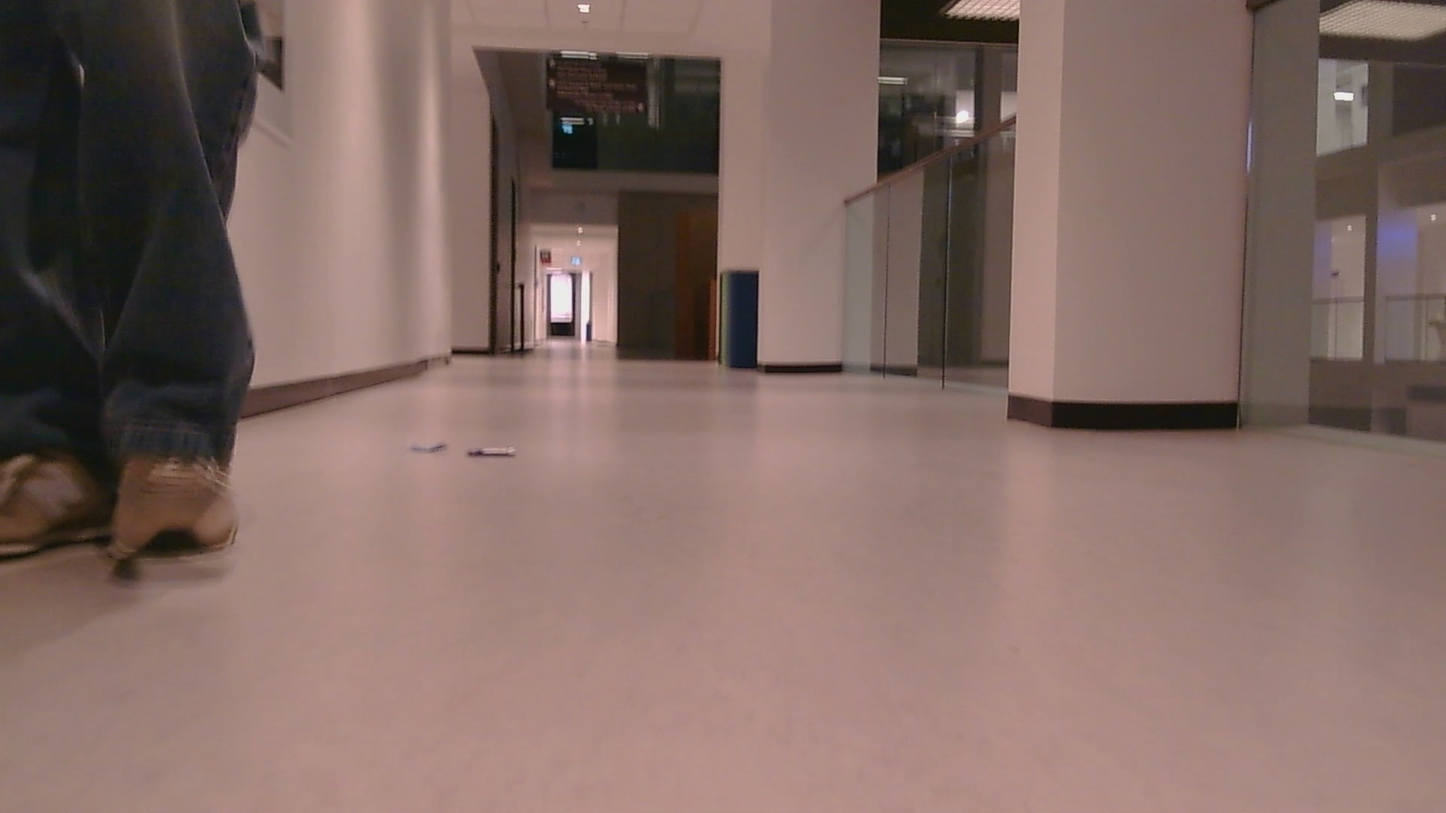carton: (468, 441, 520, 463), (409, 443, 456, 456)
